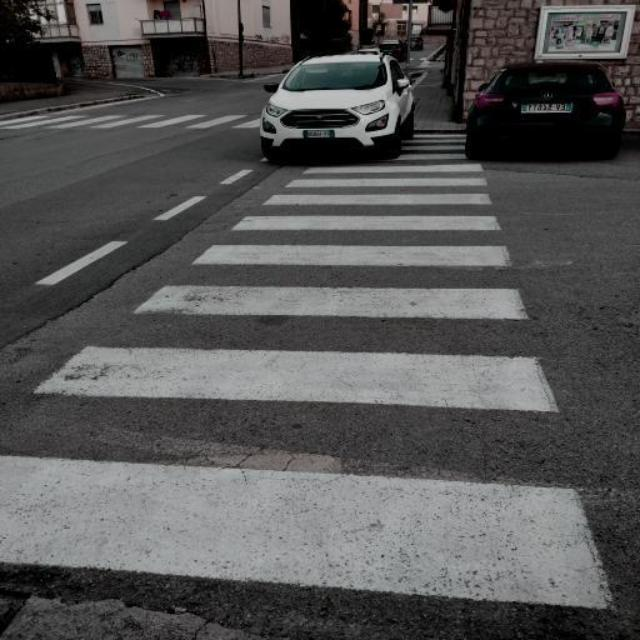sidewalk: (0, 128, 616, 617)
